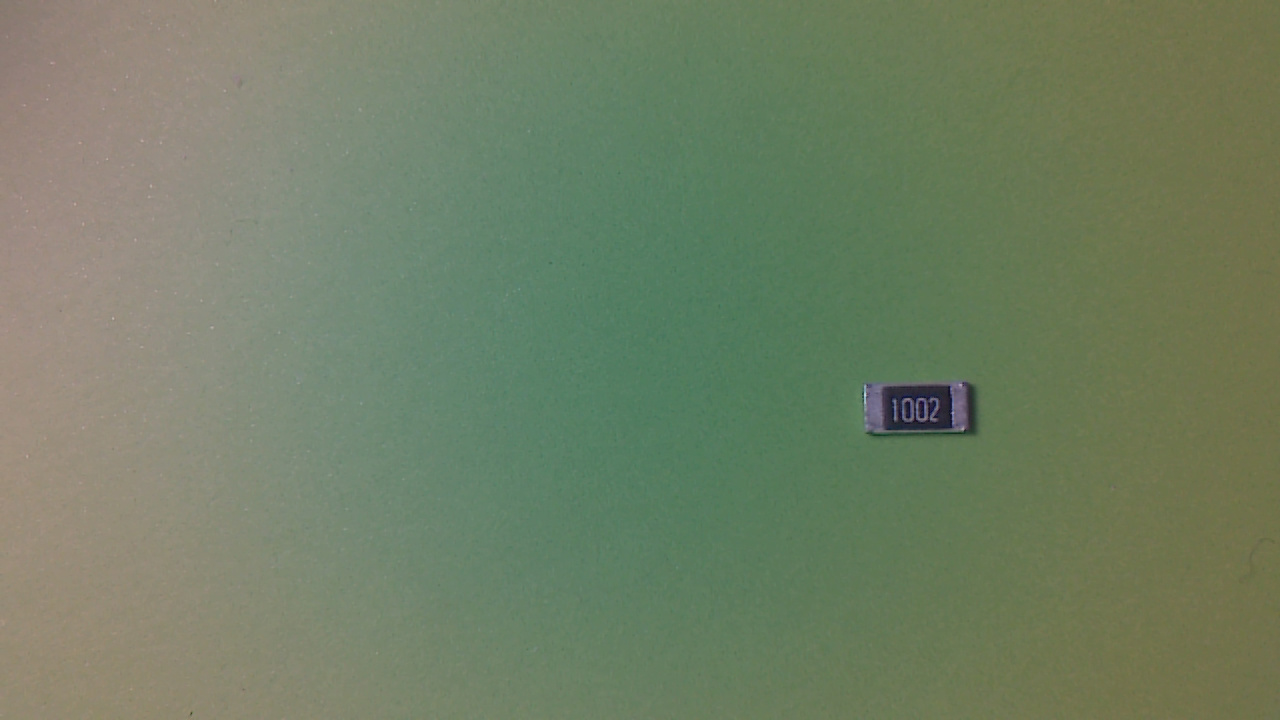Resistor: (861, 379, 983, 446)
